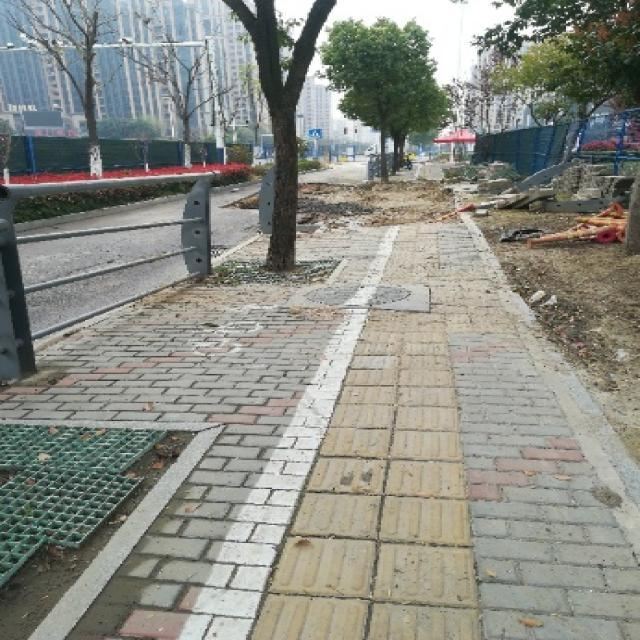Good: (301, 271, 420, 321)
